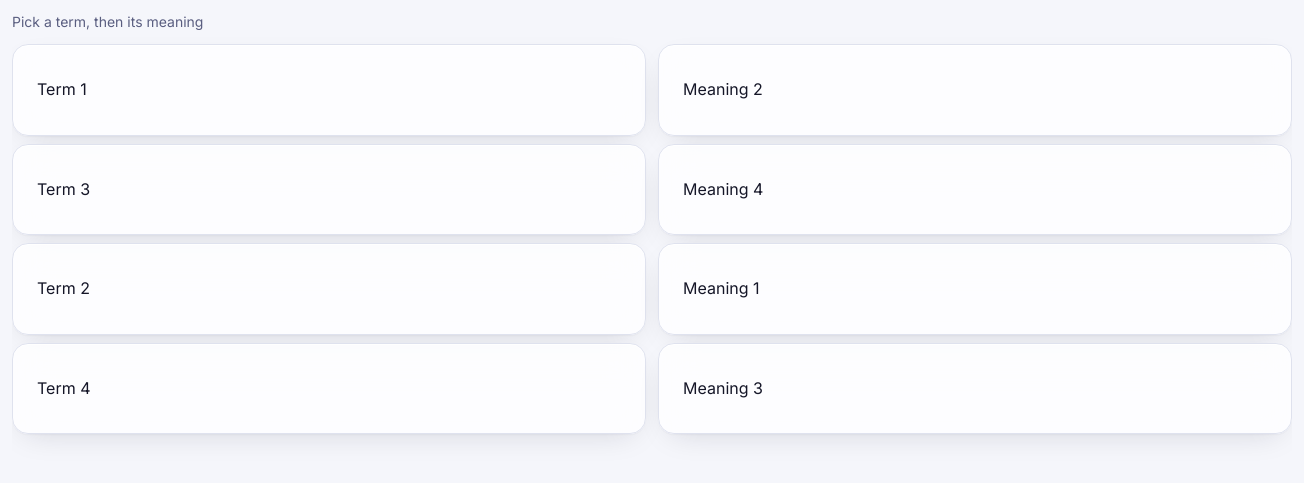
Test: MatchGame › locks a right pair and says so in words
This screenshot has width=1304, height=483.
Click the button "Term 1" at (62, 89), box 12,44 -> 646,136
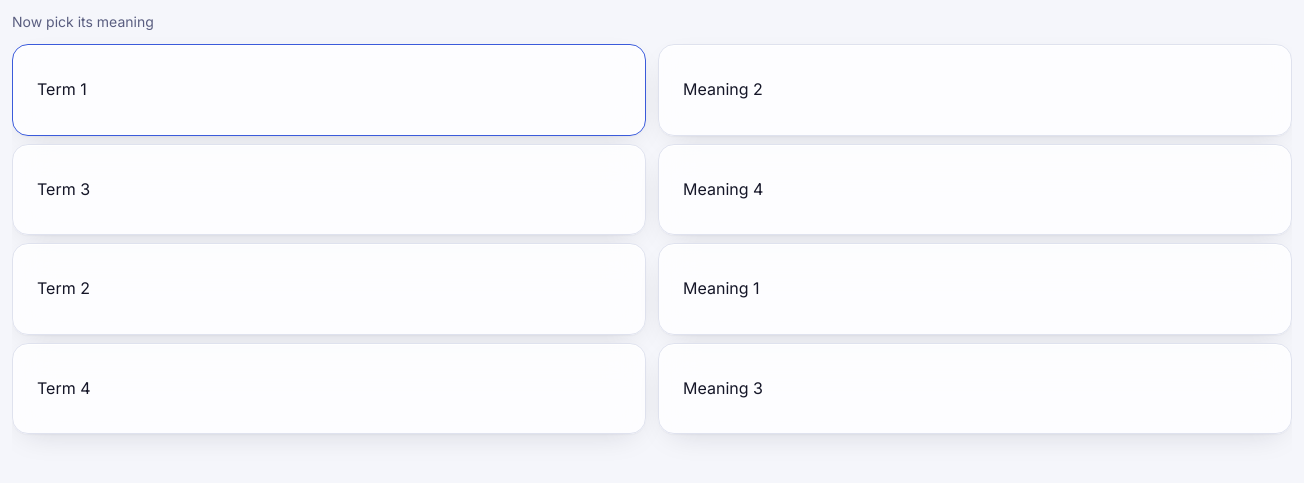
Click the button "Meaning 1" at (721, 288), box 658,243 -> 1292,335
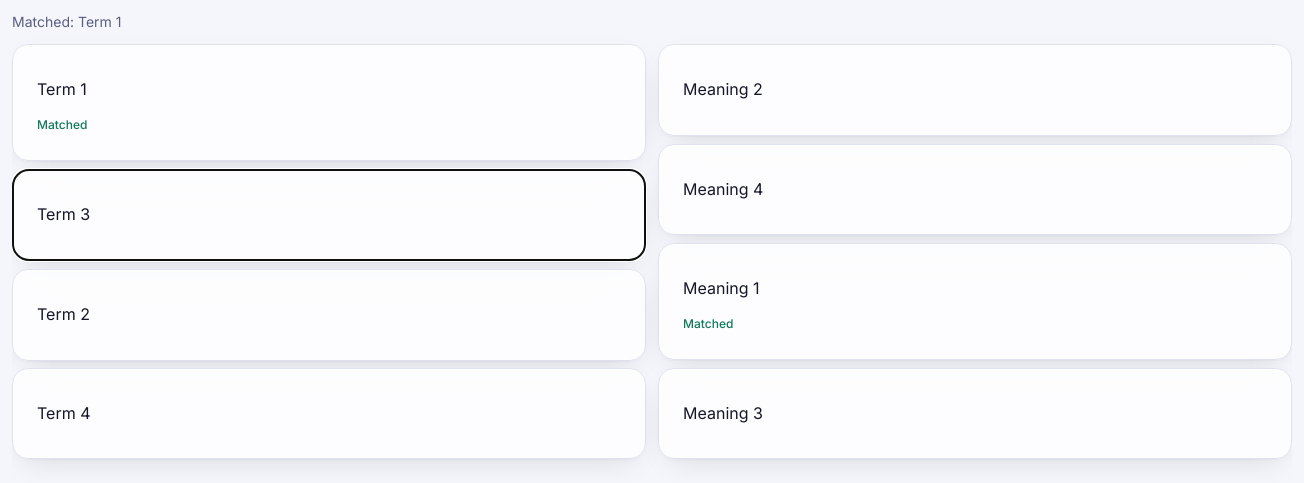
expect the button "Term 1 Matched" is disabled: met, box 12,44 -> 646,161
expect the button "Term 1 Matched" is shown: met, box 12,44 -> 646,161
